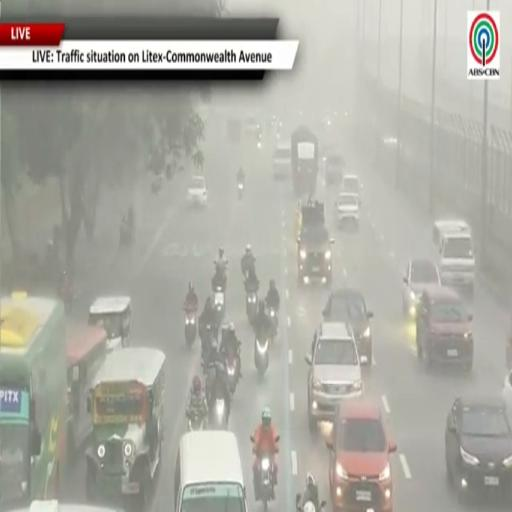bus: (0, 293, 67, 509)
car: (327, 399, 396, 511), (445, 396, 511, 501), (306, 323, 363, 430), (416, 285, 473, 372), (323, 287, 373, 365), (433, 219, 475, 294), (297, 201, 334, 284), (439, 232, 475, 294), (403, 259, 440, 317), (9, 500, 122, 511), (433, 219, 470, 246), (335, 192, 359, 229), (273, 141, 291, 180), (341, 174, 362, 205), (188, 175, 208, 206), (325, 153, 344, 184), (502, 370, 511, 425), (245, 116, 261, 135), (506, 322, 511, 370)
jeepney: (86, 348, 165, 510), (66, 326, 107, 459), (89, 296, 131, 349), (12, 500, 120, 511)
motorcycle: (259, 454, 275, 511), (225, 351, 239, 394), (254, 336, 269, 376), (201, 325, 216, 361), (296, 493, 326, 511), (202, 363, 216, 401), (210, 398, 227, 428), (185, 308, 197, 347), (214, 286, 224, 325), (188, 409, 205, 431), (246, 292, 257, 325), (119, 224, 134, 248), (268, 308, 278, 340), (238, 182, 244, 199)
truck: (291, 126, 318, 197)
